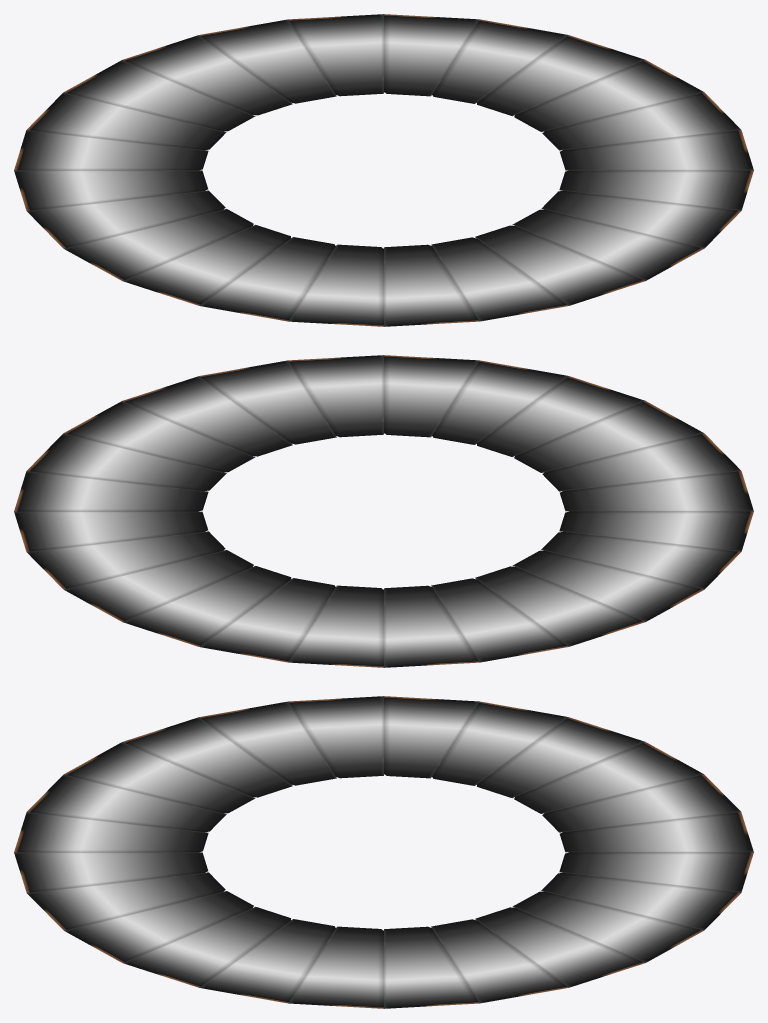
The picture shows the model from 3 angles, top to bottom: view 1: azimuth 30°, elevation 25°; view 2: azimuth 150°, elevation 25°; view 3: azimuth 270°, elevation 25°; orthographic projection.
Visible parts, largest first — view 1: T1L6M007_23; view 2: T1L6M007_23; view 3: T1L6M007_23.
Part boxes in pixels (x1,y1,x2,y2): T1L6M007_23: (14,14,753,326); T1L6M007_23: (14,355,753,667); T1L6M007_23: (14,696,753,1008).
Size of the model in its own units: 3.43 by 0 by 3.43.
